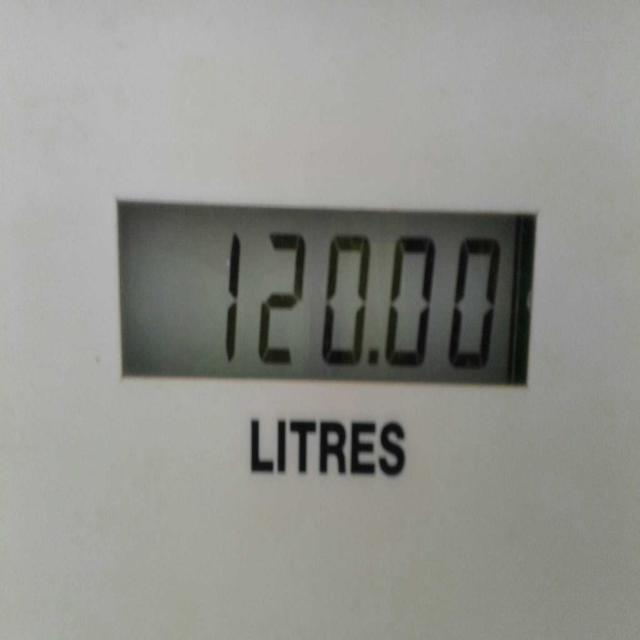.: (369, 335, 395, 385)
0: (449, 231, 507, 385), (319, 225, 375, 372), (385, 236, 445, 366)
1: (215, 225, 254, 378)
2: (256, 230, 308, 374)
